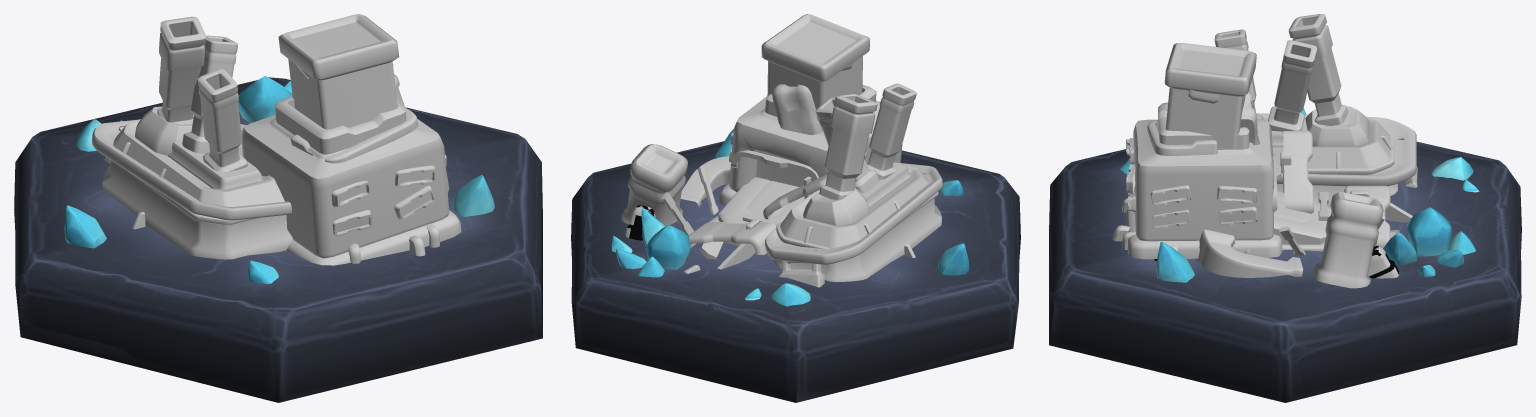
File: CF_lvl2_d.fbx
The picture shows the model from 3 angles, left to right: view 1: azimuth 30°, elevation 25°; view 2: azimuth 150°, elevation 25°; view 3: azimuth 270°, elevation 25°; orthographic projection. The views are drawn at different scales.
Parts seen in each view (by area): view 1: factory_lvl2_dstr; view 2: factory_lvl2_dstr; view 3: factory_lvl2_dstr.
Part boxes in pixels (x1,y1,x2,y2): factory_lvl2_dstr: (14, 14, 542, 402); factory_lvl2_dstr: (571, 14, 1020, 402); factory_lvl2_dstr: (1049, 14, 1521, 402).
Bounding box in the file's own units: 7.45 × 3.67 × 6.51.
